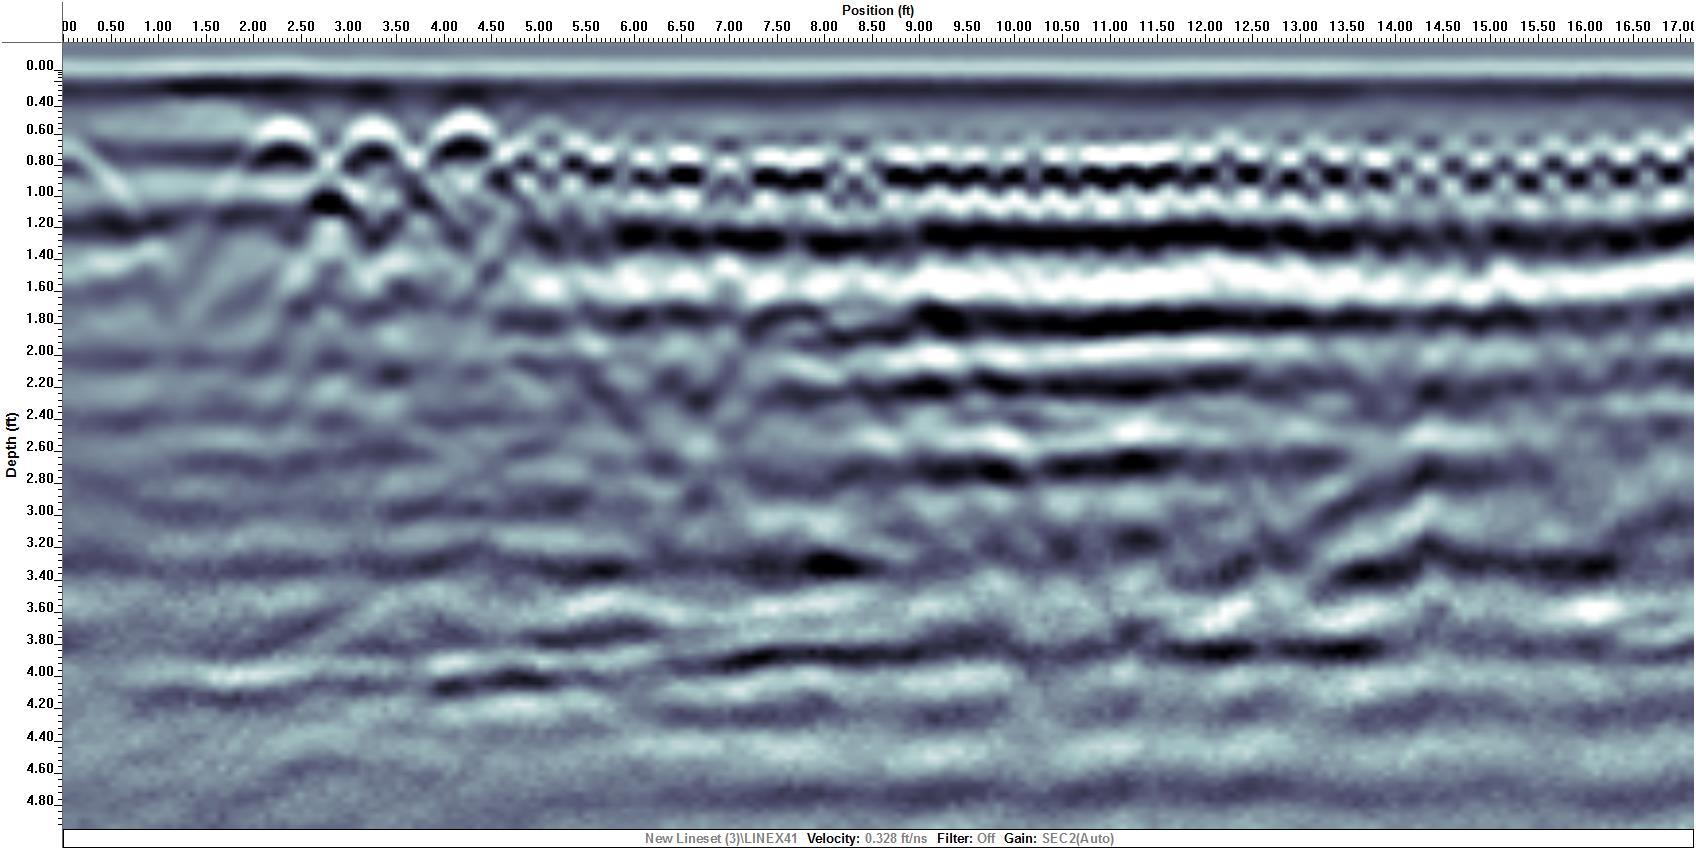hyperbola: (409, 99, 514, 209), (225, 108, 328, 207), (321, 107, 424, 206)
